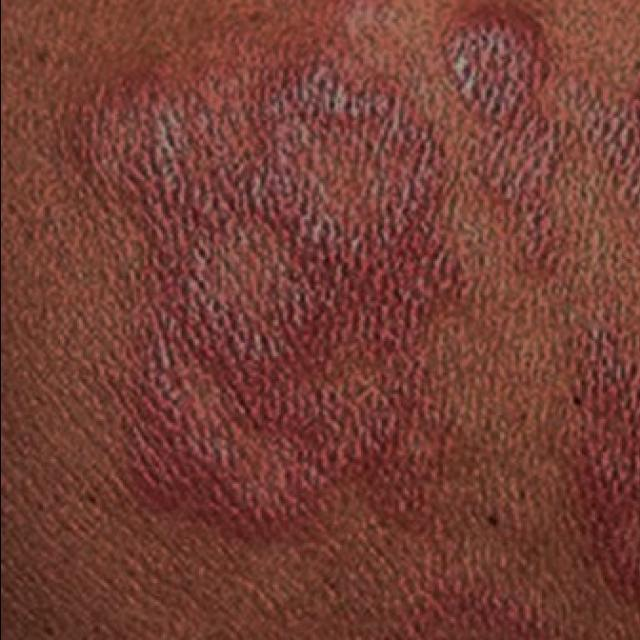Leprosy: (63, 44, 465, 546), (423, 0, 583, 288), (568, 301, 640, 640)
